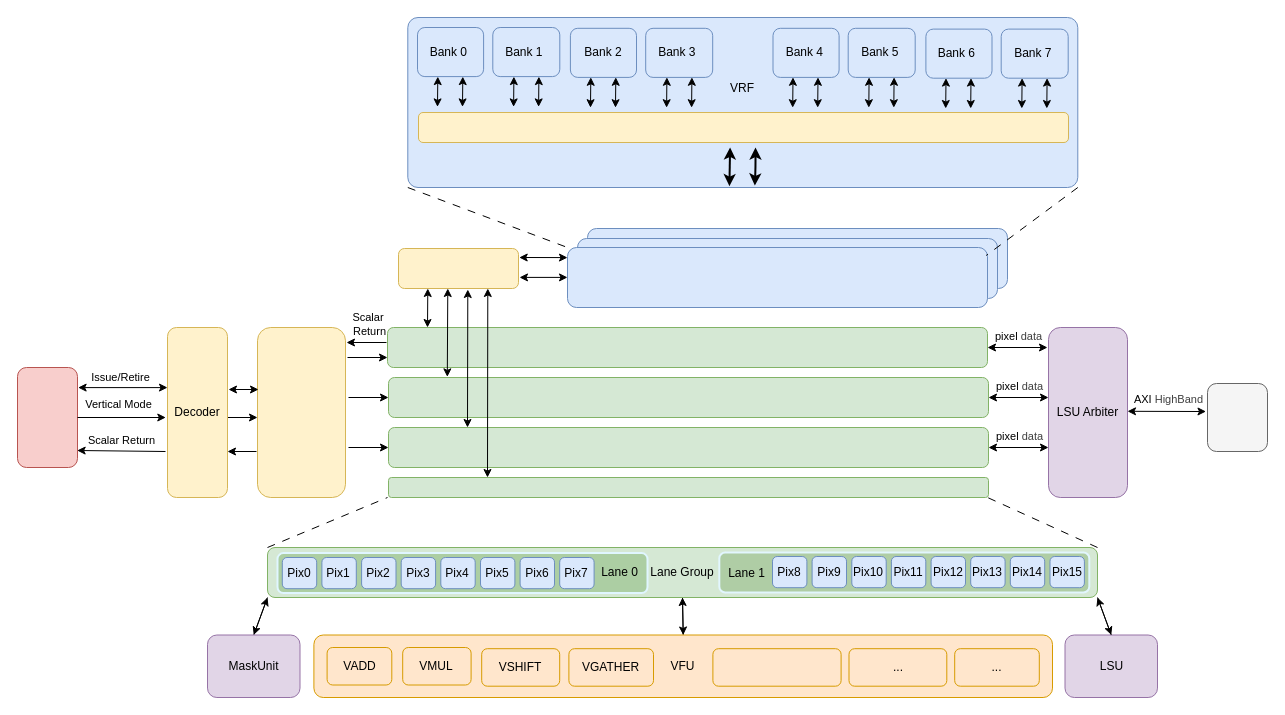
The diagram is 1285 pixels wide and 715 high, and some of its shapes have lost their labels. The box of each missing label's shape, as (x1, y1, x2, y2) in pixels:
DRAM: (1206, 382, 1268, 452)
Lane Group ...: (388, 426, 988, 468)
Lane Group 0: (386, 326, 988, 368)
Lane Group 1: (388, 376, 988, 418)
Lane Group 127: (388, 476, 988, 498)
RISC-V Scalar Core: (16, 366, 78, 468)
Routing / Concatenate: (418, 112, 1068, 142)
Sequencer: (256, 326, 346, 498)
Vector Register File: (566, 246, 988, 308)
VREDUCE SUM: (712, 648, 841, 686)
VRF Arbiter: (398, 248, 518, 288)
